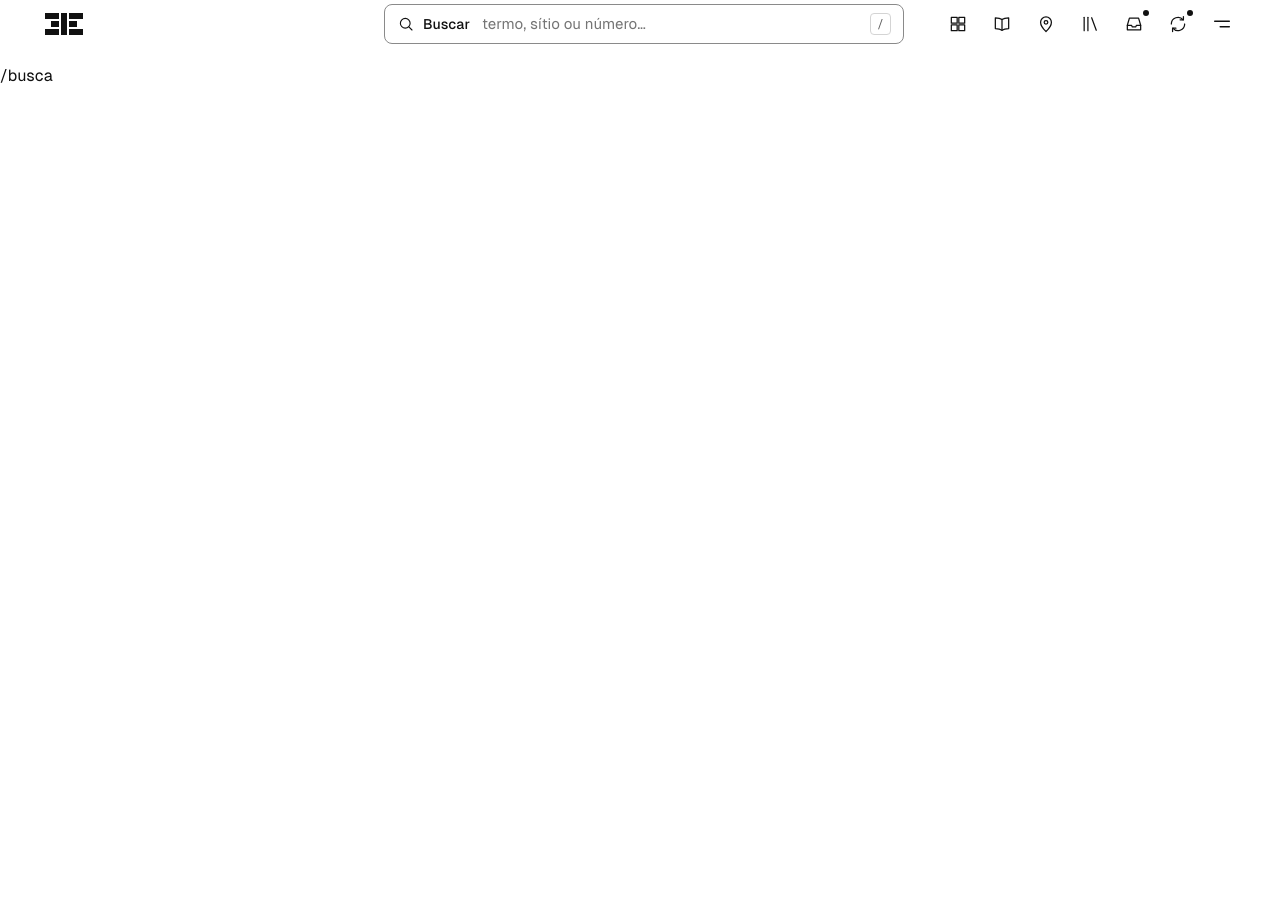
Test: BarraSuperior › escolher algo no Menu fecha o painel
The width and height of the screenshot is (1280, 900).
Click the button named "Menu". click: (1222, 24)
box: [1200,2,1244,46]
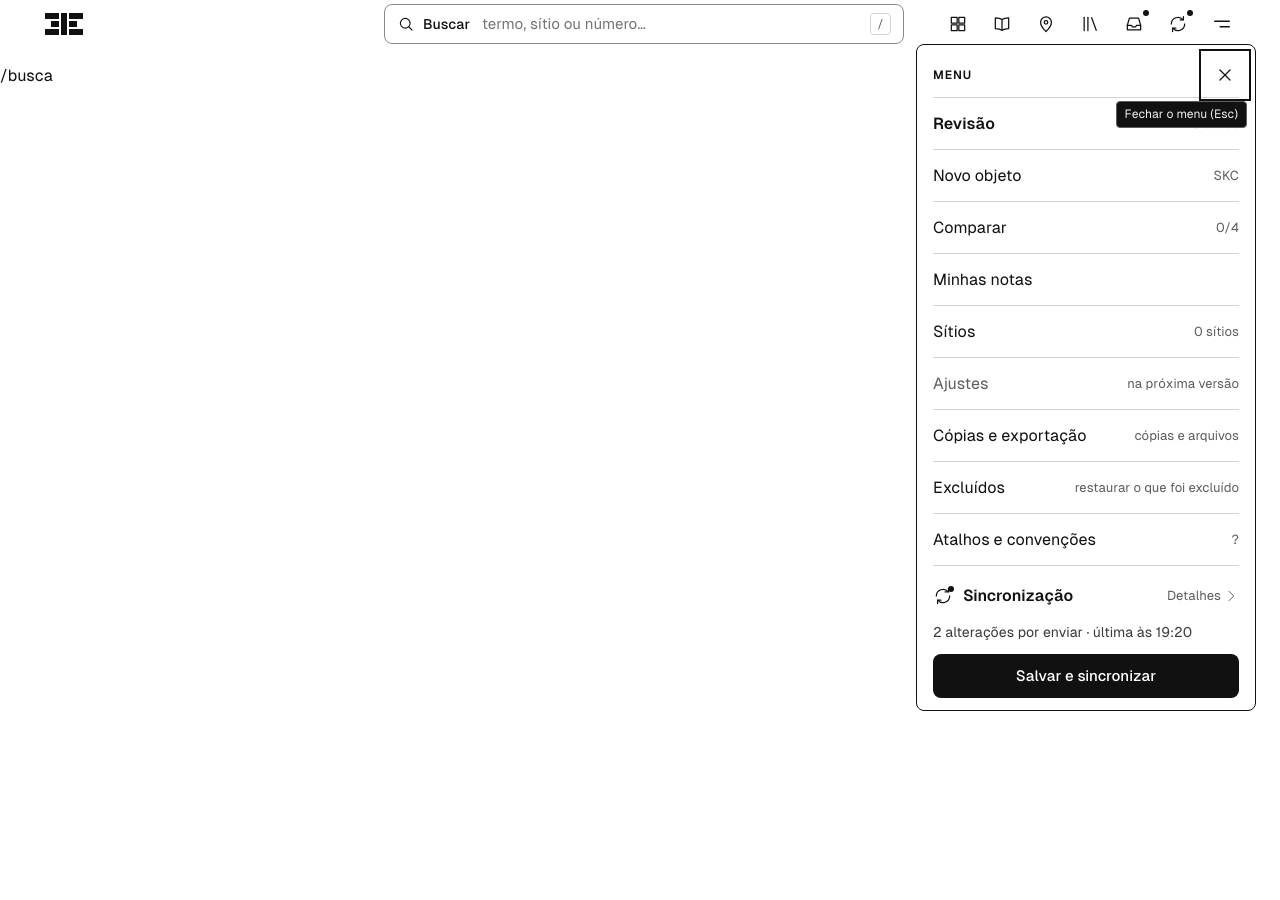
Click the link "Minhas notas". click: (983, 279)
box: [933,253,1239,305]
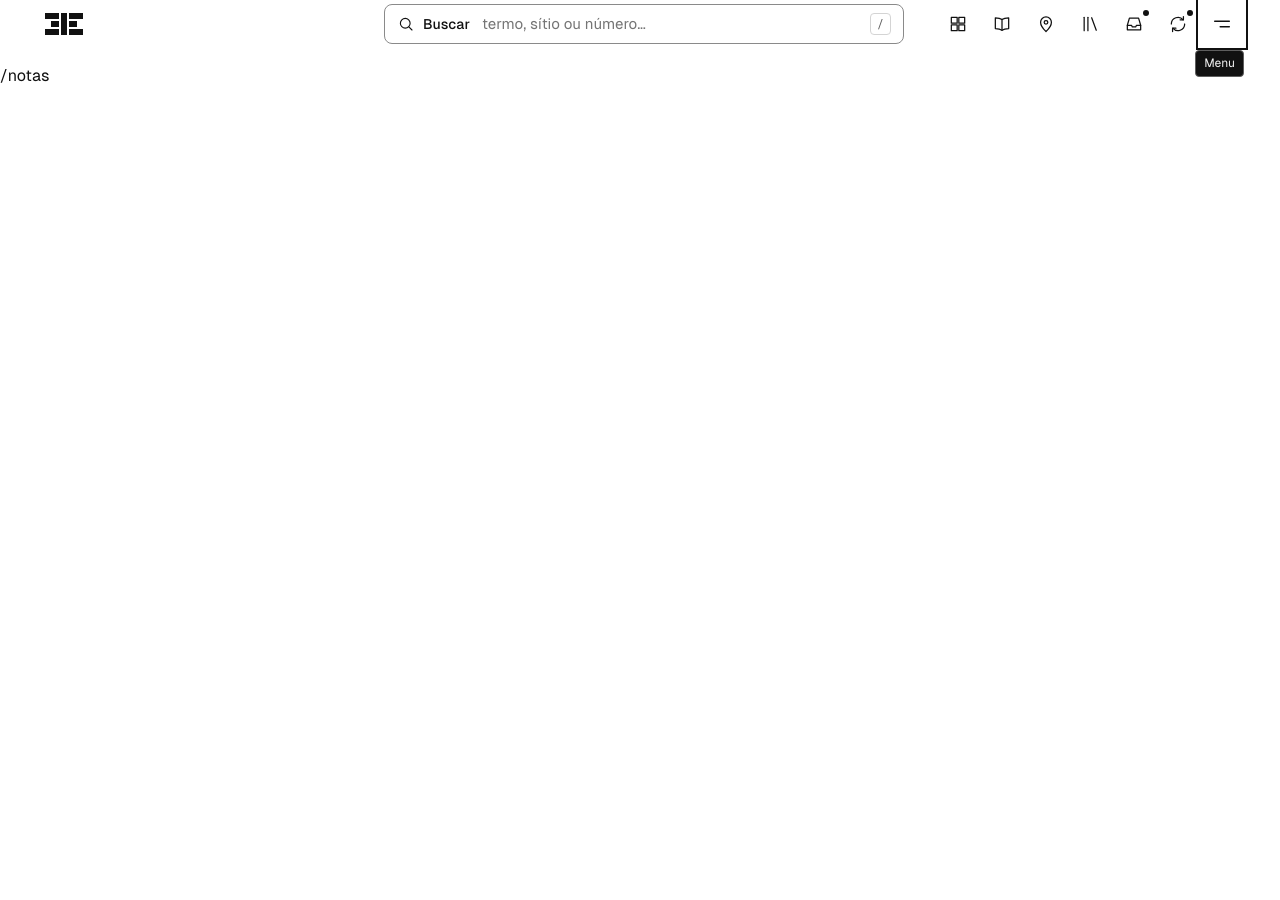
Expected: the text "Menu" is gone
Expected: the text with test id "onde" reads "/notas", [0,66,50,85]
